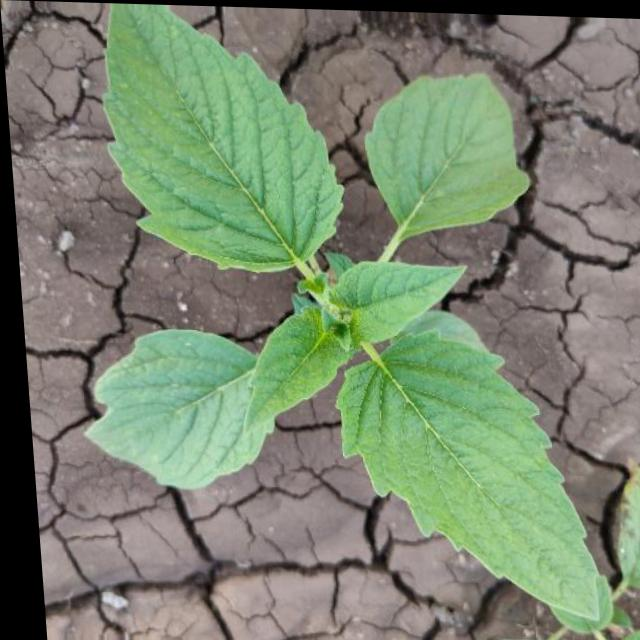crop: (57, 4, 607, 616)
